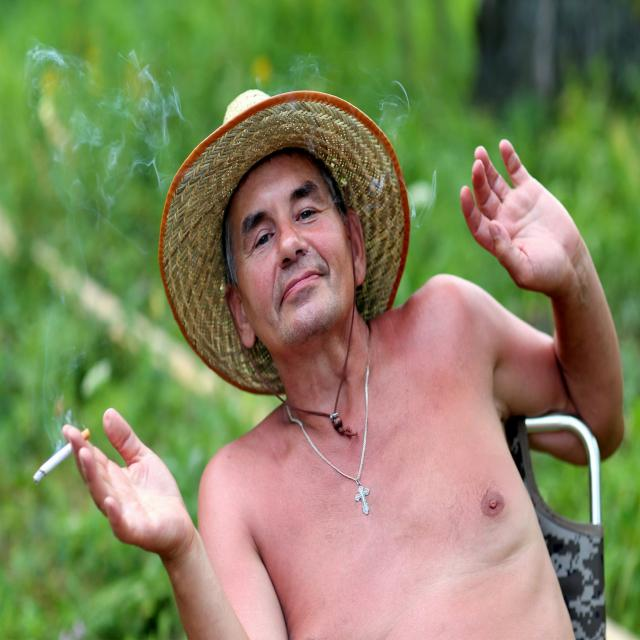smoke: (32, 425, 94, 490)
